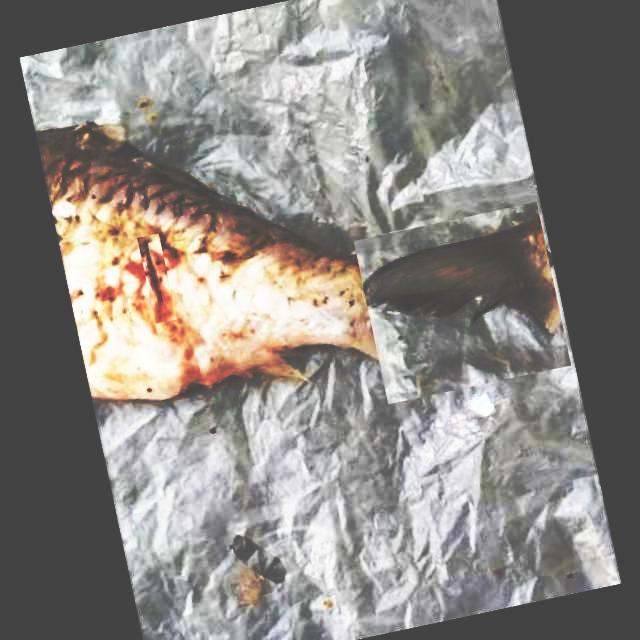Aeromonas Septicemia: (36, 124, 562, 404)
